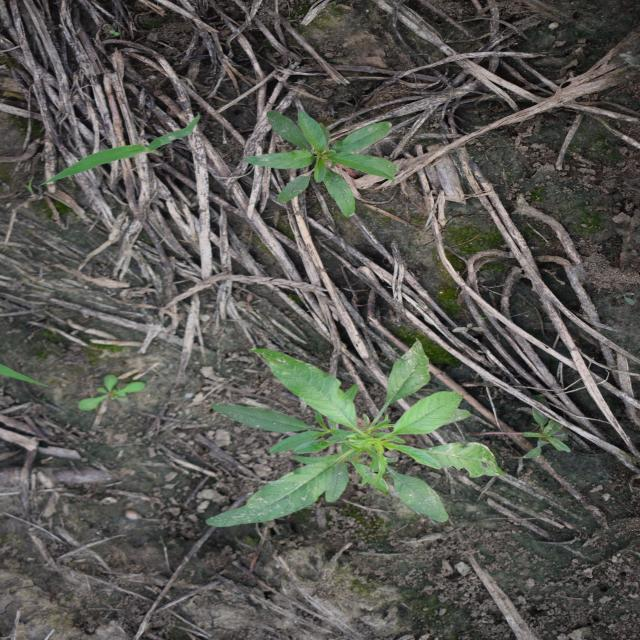Carpetweed: (74, 374, 148, 417)
Waterhemp: (202, 336, 508, 528), (242, 106, 402, 220)
